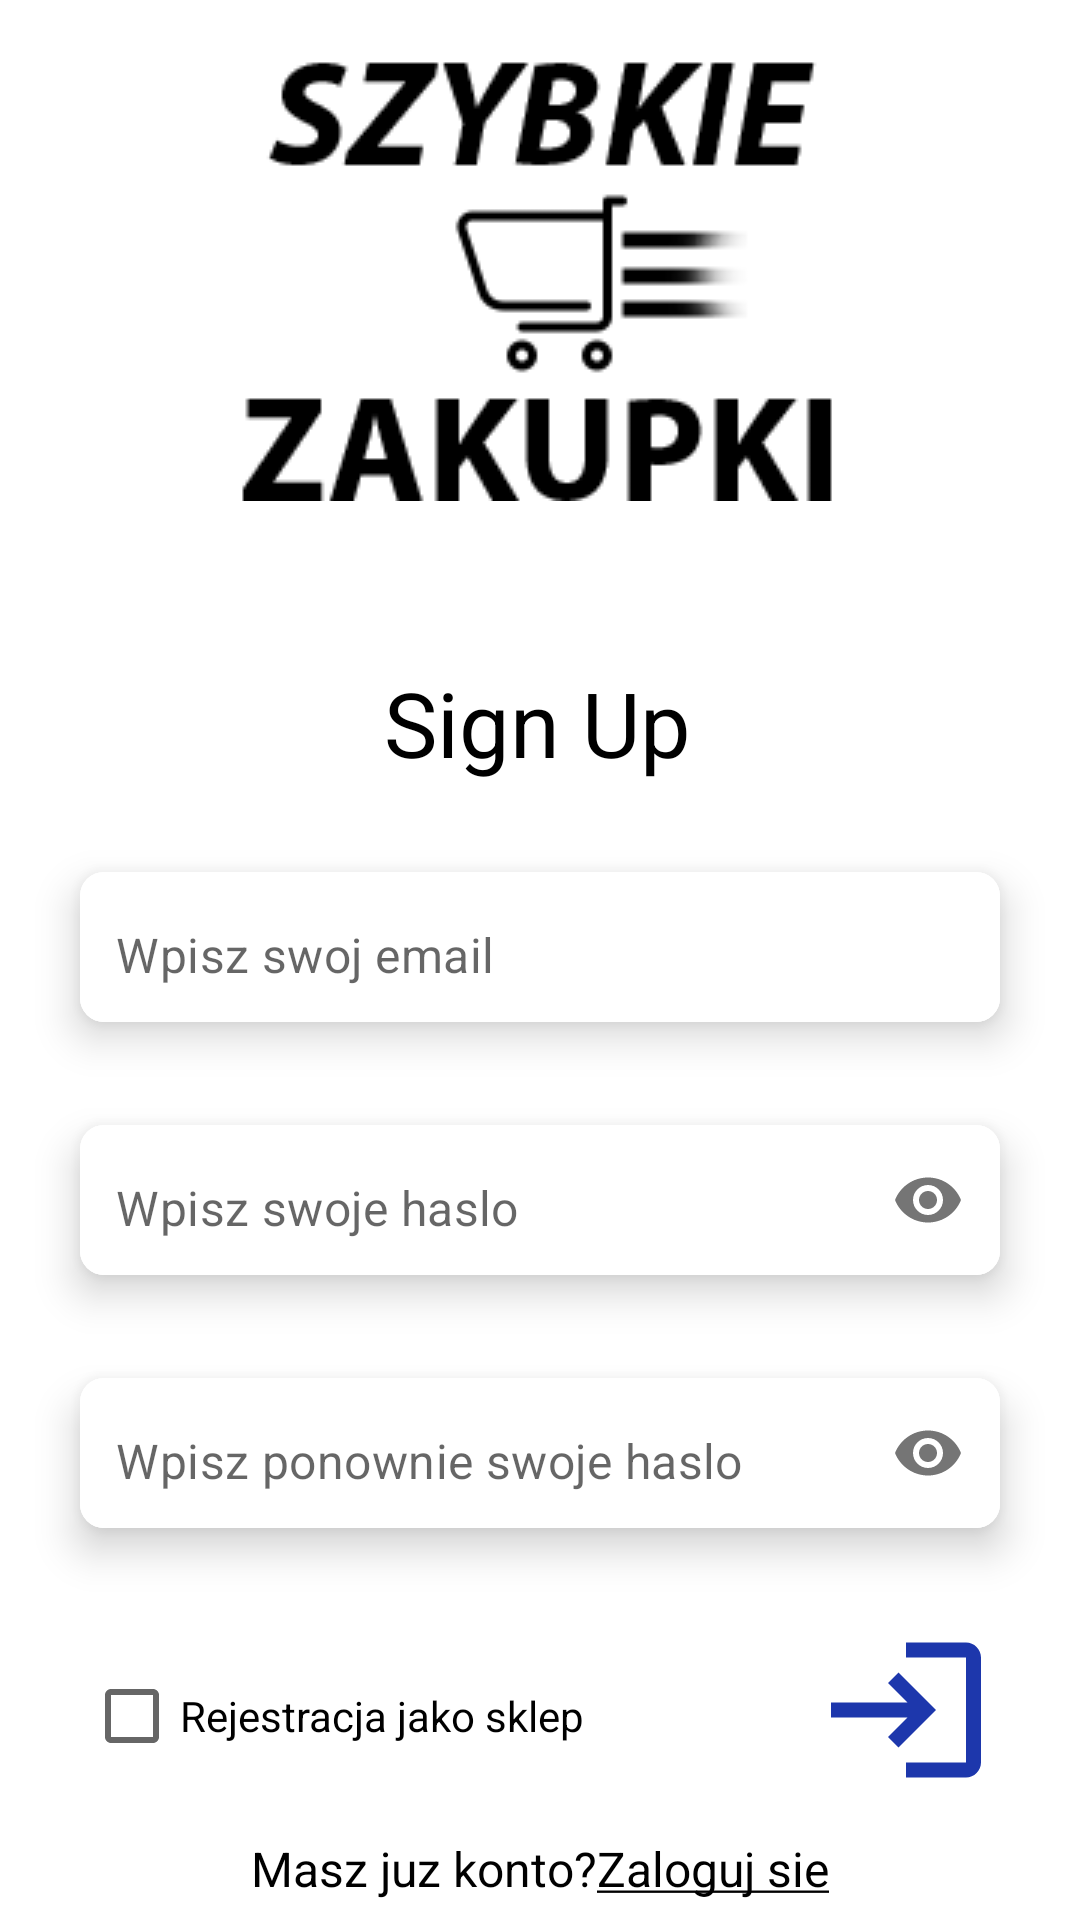

Where to tap for icons on this 1080*1920 app screen, as point (x, y):
login arrow: point (906, 1710)
